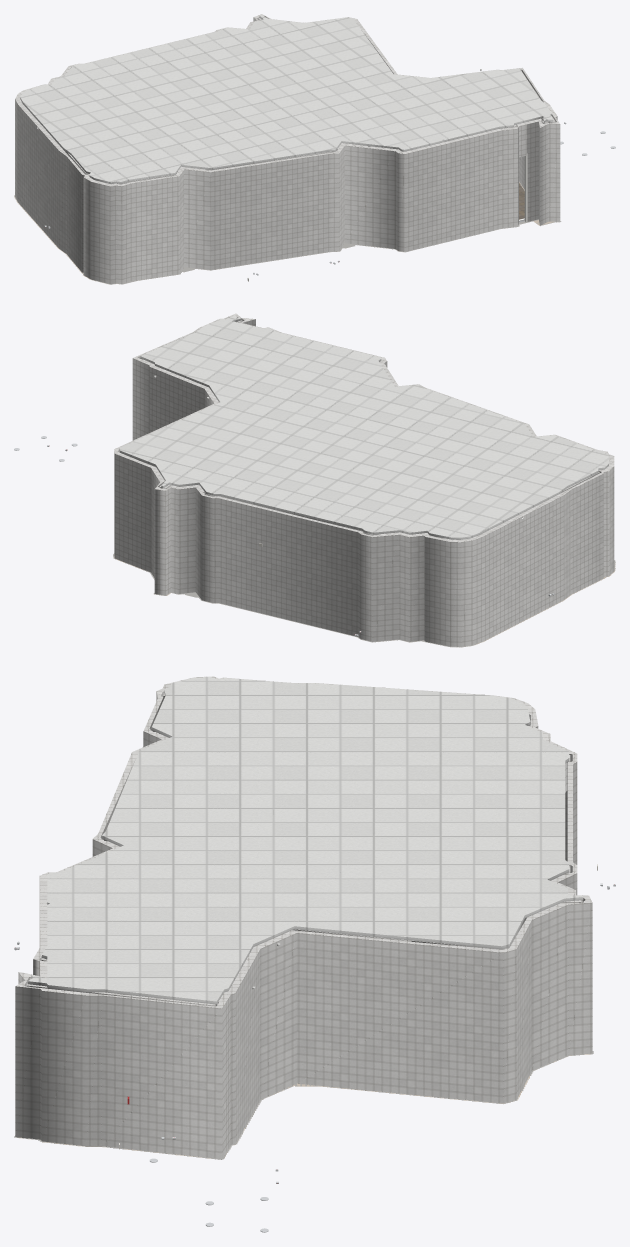
The model's file is cocina_quest_2a6a0d2a0493.glb.
The picture shows the model from 3 angles, top to bottom: view 1: azimuth 30°, elevation 25°; view 2: azimuth 150°, elevation 25°; view 3: azimuth 270°, elevation 25°; orthographic projection. The views are drawn at different scales.
Parts seen in each view (by area): view 1: Z_cocina_tile_w, Z_cocina_ceil, WALL_FOOTPRINT_LINE; view 2: Z_cocina_ceil, Z_cocina_tile_w, WALL_FOOTPRINT_LINE; view 3: Z_cocina_ceil, Z_cocina_tile_w.
Part boxes in pixels (x1,y1,x2,y2): Z_cocina_tile_w: [15, 14, 560, 284]; Z_cocina_ceil: [20, 15, 553, 184]; WALL_FOOTPRINT_LINE: [14, 181, 561, 284]; Z_cocina_ceil: [119, 315, 608, 539]; Z_cocina_tile_w: [114, 313, 614, 646]; WALL_FOOTPRINT_LINE: [113, 553, 615, 647]; Z_cocina_ceil: [28, 677, 583, 1004]; Z_cocina_tile_w: [15, 676, 592, 1159].
Size of the model in its own units: 17.22 by 3.08 by 10.81.
Materials: 39 (7 with a texture image).
